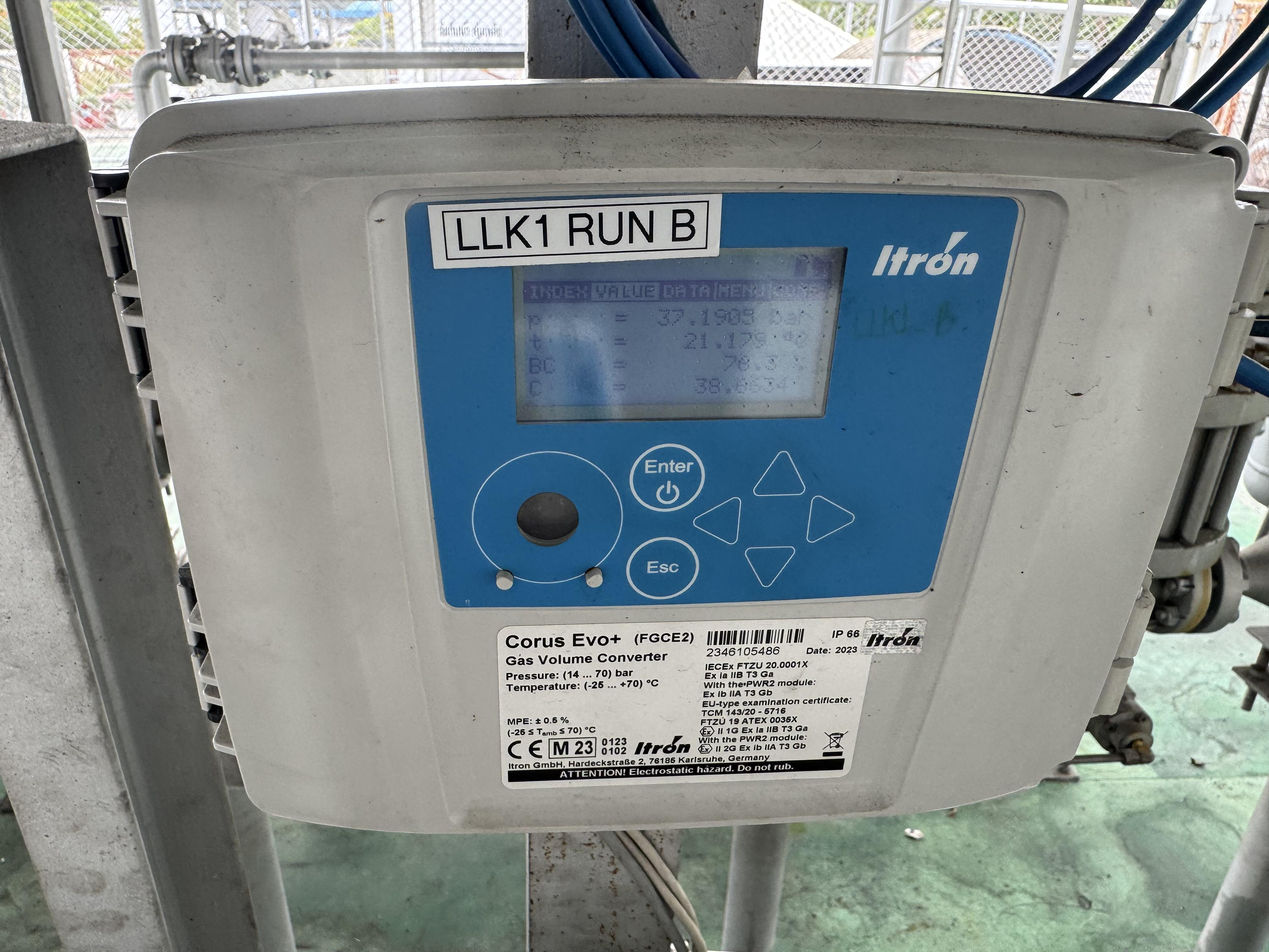digital_screen: (511, 248, 851, 424)
